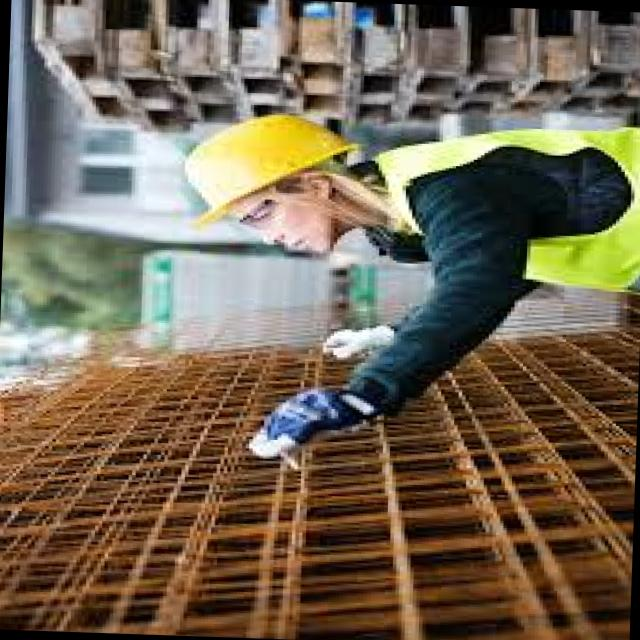gloved: (245, 380, 378, 460), (322, 320, 393, 358)
